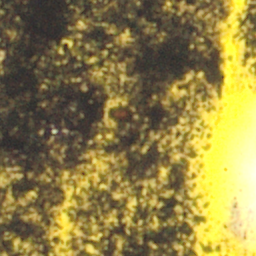cement_matrix: (0, 0, 226, 255), (243, 0, 255, 53), (171, 86, 182, 97), (127, 198, 136, 210), (159, 169, 167, 179), (87, 246, 95, 254), (110, 98, 118, 105), (92, 230, 97, 235), (108, 216, 112, 221), (147, 183, 151, 188)
cracks: (169, 0, 255, 255), (50, 155, 109, 255), (172, 87, 181, 96), (128, 199, 135, 209), (160, 170, 166, 178), (88, 247, 94, 253), (111, 99, 117, 104), (0, 178, 4, 182), (93, 231, 96, 234), (109, 217, 111, 220), (148, 184, 150, 187)
gravel_crushed_stones: (238, 130, 255, 230)
